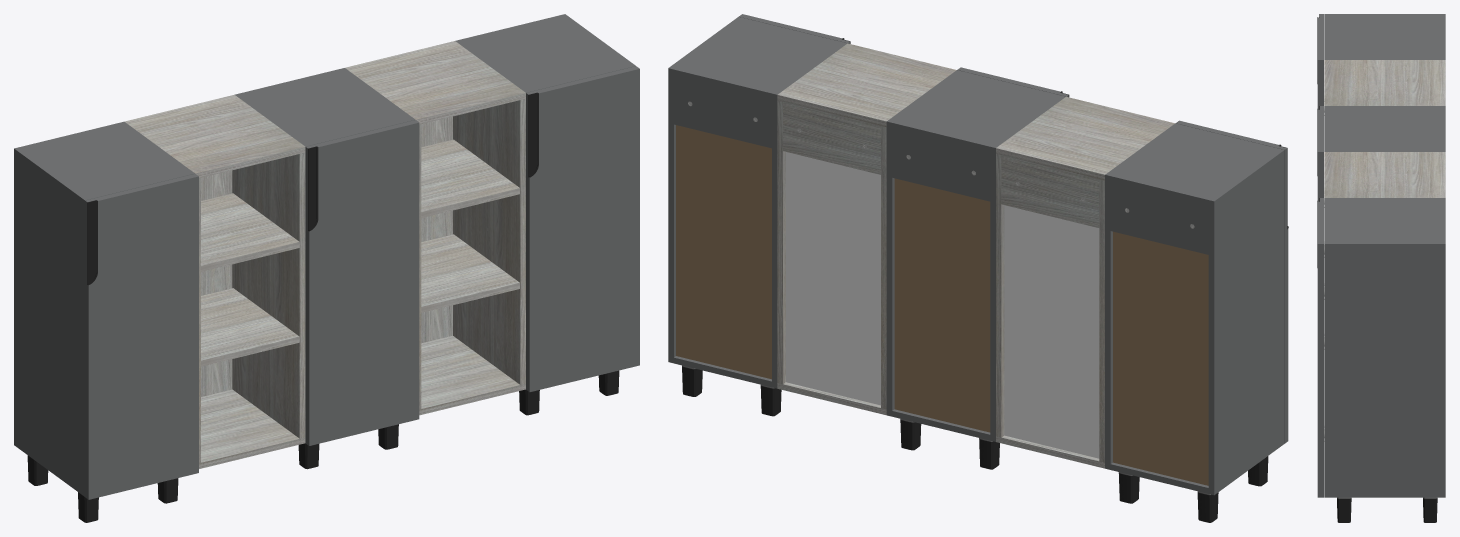
3 views of the same model, side by side, from view 1: azimuth 30°, elevation 25°; view 2: azimuth 150°, elevation 25°; view 3: azimuth 270°, elevation 25° (orthographic). The views are drawn at different scales.
Visible parts, largest first — view 1: group_0.161, group_0.479, group_0.268, Cube, Cube.001, Cube.005, Cube.007, Cube.003, Cube.004, Cube.008, Cube.002, Cube.006 (+9 smaller); view 2: Cube, group_0.209, group_0.369, group_0.525, group_0.365, group_0.119, Cube.004, Cube.008, Cube.001, Cube.005, Cube.003, Cube.007 (+3 smaller); view 3: Cube.008, Cube.004, Cube.007, Cube.003, Cube, group_0.479, group_0.161, group_0.268, group_0.499, group_0.500.
Part boxes in pixels (<box>): group_0.161: <box>305,120,419,445</box>; group_0.479: <box>526,66,639,391</box>; group_0.268: <box>85,173,198,499</box>; Cube: <box>14,121,194,496</box>; Cube.001: <box>419,99,525,409</box>; Cube.005: <box>199,152,305,463</box>; Cube.007: <box>124,94,305,178</box>; Cube.003: <box>345,41,525,124</box>; Cube.004: <box>235,68,415,442</box>; Cube.008: <box>455,14,635,92</box>; Cube.002: <box>419,335,525,415</box>; Cube.006: <box>199,389,305,468</box>; Cube: <box>1105,123,1284,495</box>; group_0.209: <box>894,178,990,432</box>; group_0.369: <box>1113,231,1208,485</box>; group_0.525: <box>676,125,771,379</box>; group_0.365: <box>1004,205,1099,458</box>; group_0.119: <box>786,152,880,405</box>; Cube.004: <box>886,70,1065,441</box>; Cube.008: <box>668,17,847,388</box>; Cube.001: <box>777,100,886,409</box>; Cube.005: <box>996,154,1104,462</box>; Cube.003: <box>777,43,956,127</box>; Cube.007: <box>996,96,1174,180</box>; Cube.008: <box>1324,198,1445,497</box>; Cube.004: <box>1324,106,1445,151</box>; Cube.007: <box>1324,60,1445,105</box>; Cube.003: <box>1324,152,1445,197</box>; Cube: <box>1324,14,1445,59</box>; group_0.479: <box>1317,198,1323,497</box>; group_0.161: <box>1317,106,1323,201</box>; group_0.268: <box>1317,14,1323,109</box>; group_0.499: <box>1337,498,1351,522</box>; group_0.500: <box>1423,498,1437,522</box>.
Bounding box in the file's own units: 1.75 × 1 × 0.4126.
15 materials, 1 textured.
